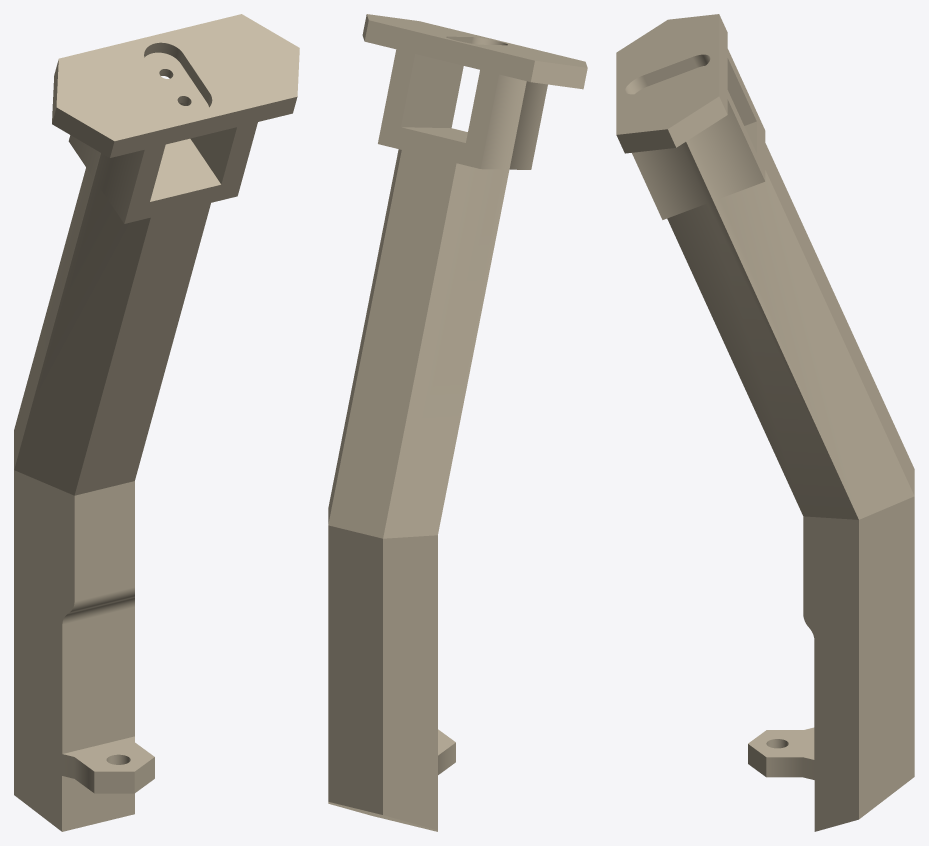
Rendered from camera_stand.glb.
3 renders of one model, left to right at view 1: azimuth 30°, elevation 25°; view 2: azimuth 150°, elevation 25°; view 3: azimuth 270°, elevation 25°, orthographic. The views are drawn at different scales.
Parts seen in each view (by area): view 1: camera_stand; view 2: camera_stand; view 3: camera_stand.
Part boxes in pixels (bbox=[...]): camera_stand: bbox=[14, 14, 299, 831]; camera_stand: bbox=[328, 14, 587, 831]; camera_stand: bbox=[616, 14, 914, 831].
Bounding box in the file's own units: 69.82 × 226 × 80.37.
